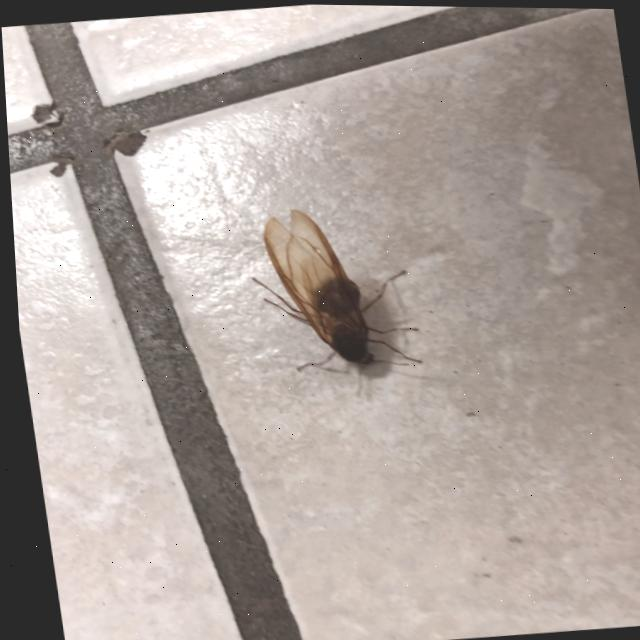Alive-Male-Alate: (237, 197, 425, 406)
